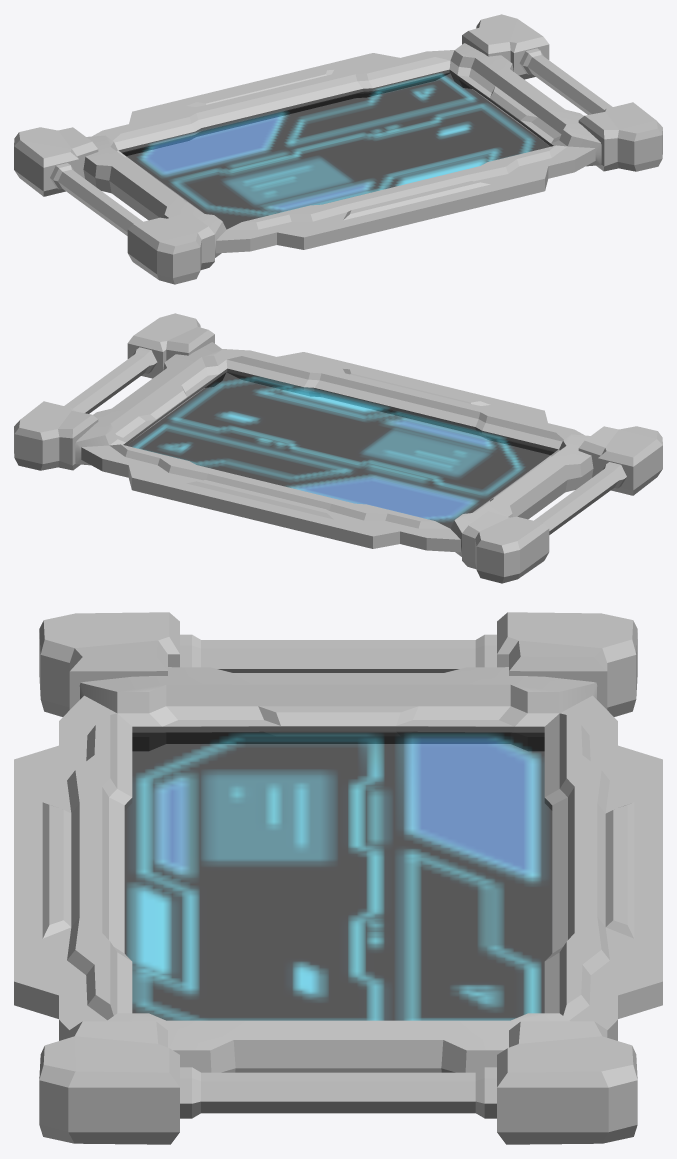
Rendered from SM_Prop_Handheld_01.fbx.
3 renders of one model, top to bottom at view 1: azimuth 30°, elevation 25°; view 2: azimuth 150°, elevation 25°; view 3: azimuth 270°, elevation 25°, orthographic. The views are drawn at different scales.
Visible parts, largest first — view 1: SM_Prop_Handheld_01; view 2: SM_Prop_Handheld_01; view 3: SM_Prop_Handheld_01.
Part boxes in pixels (x1=…): SM_Prop_Handheld_01: x1=14, y1=14, x2=662, y2=284; SM_Prop_Handheld_01: x1=14, y1=313, x2=662, y2=583; SM_Prop_Handheld_01: x1=14, y1=612, x2=662, y2=1144.
Bounding box in the file's own units: 56.42 × 4.38 × 33.2.
